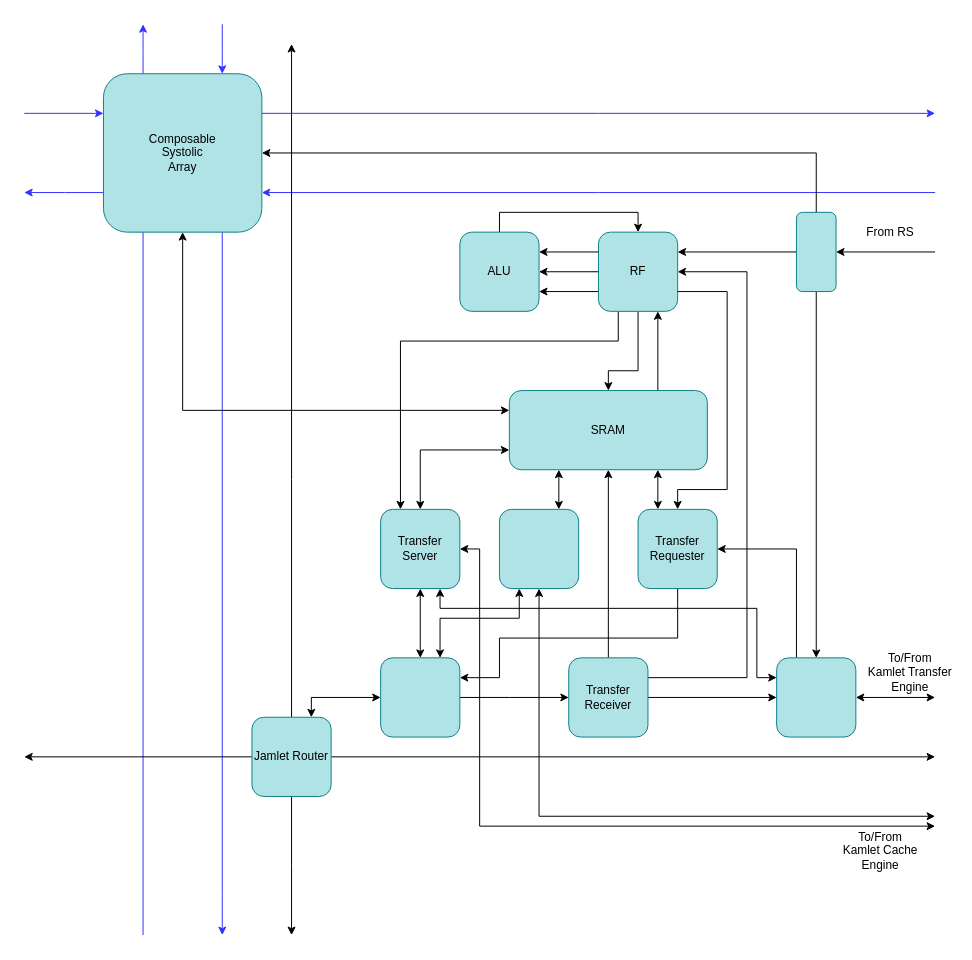
This 972x960 diagram has some shape labels left out. Each missing label, with the centre of its shape:
Jamlet Cache Engine: the point at 538,548
Jamlet Transfer Engine: the point at 816,697
Message Router: the point at 420,697
Split: the point at 815,251
